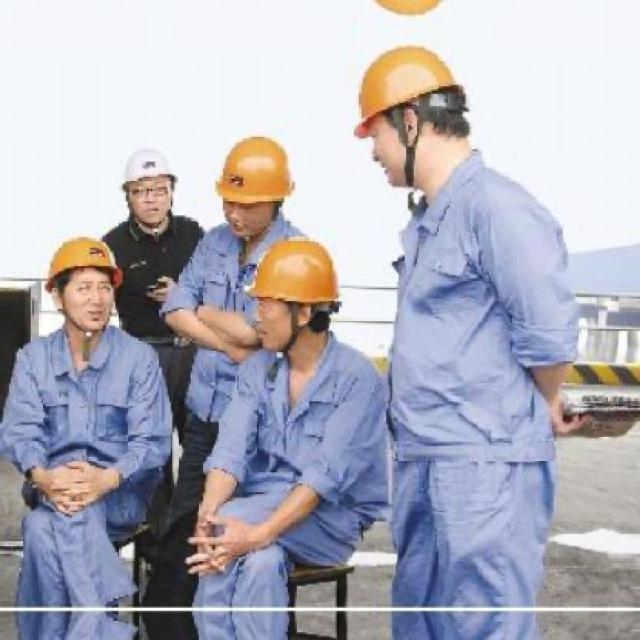helmet: (349, 39, 474, 192), (254, 231, 351, 355), (39, 223, 126, 334), (215, 125, 298, 240), (116, 133, 182, 230)
